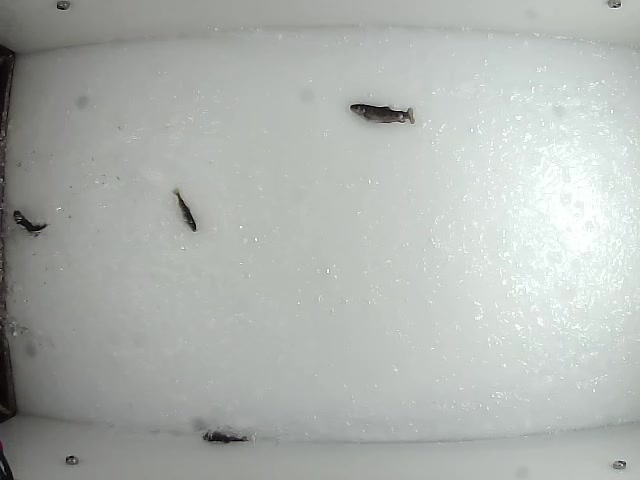fish: (345, 104, 417, 127), (172, 186, 199, 233), (12, 208, 50, 237), (201, 426, 250, 445)
